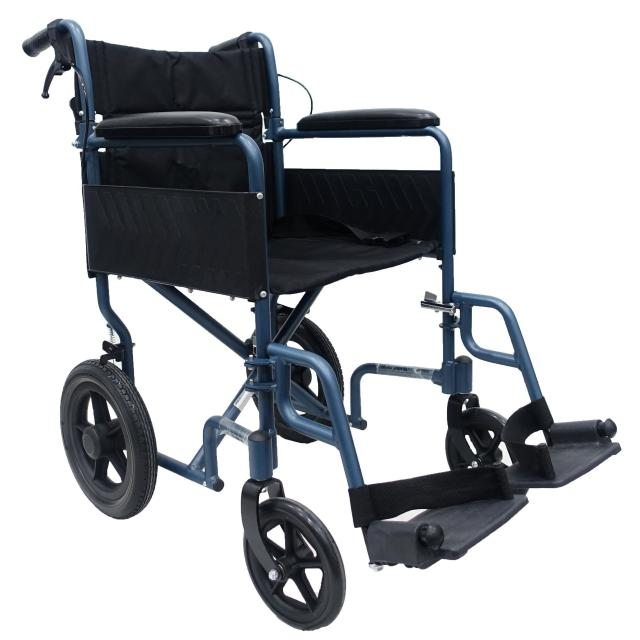wheelchair: (9, 6, 640, 640)
